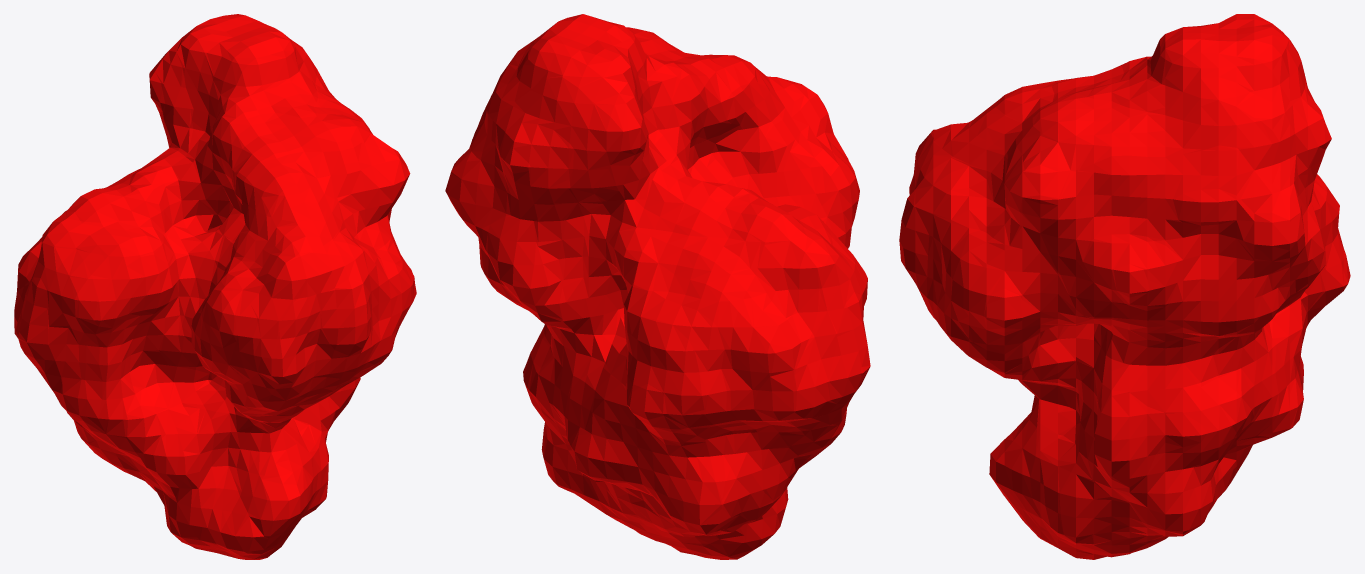
Rendered from pepQ_coarse.dae.
The picture shows the model from 3 angles, left to right: view 1: azimuth 30°, elevation 25°; view 2: azimuth 150°, elevation 25°; view 3: azimuth 270°, elevation 25°; orthographic projection. The views are drawn at different scales.
Visible parts, largest first — view 1: pepQ; view 2: pepQ; view 3: pepQ.
Part boxes in pixels (bbox=[...]): pepQ: bbox=[14, 14, 416, 559]; pepQ: bbox=[445, 14, 870, 559]; pepQ: bbox=[899, 14, 1350, 559].
Bounding box in the file's own units: 75.4 × 100 × 74.02.
